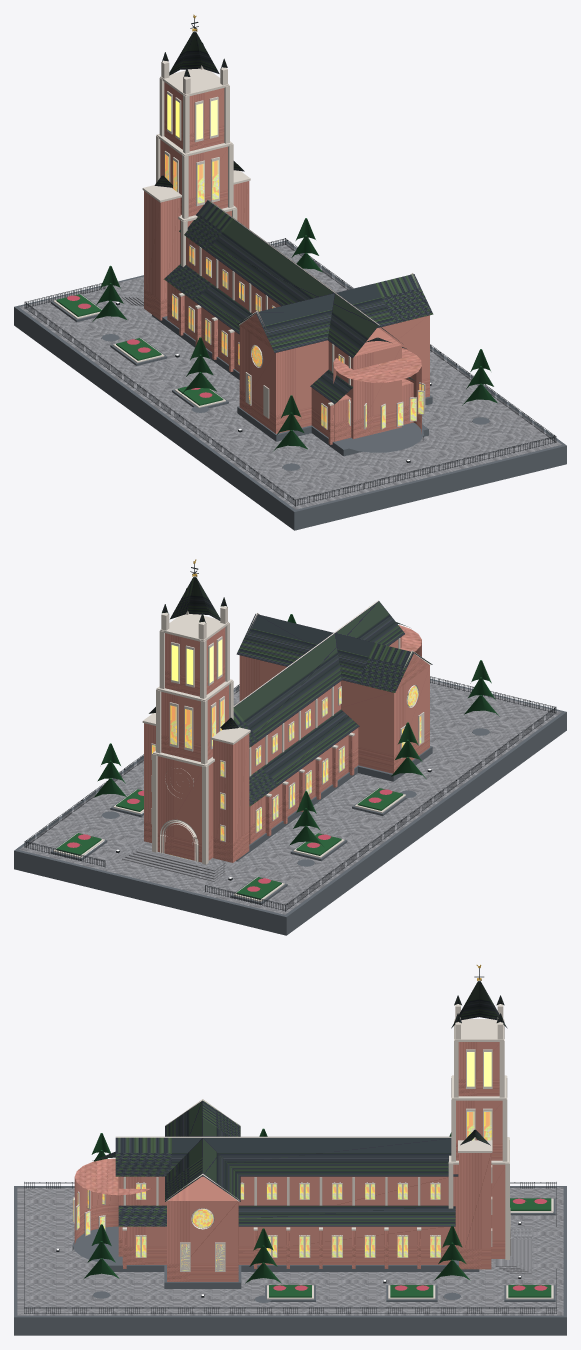
Rendered from ultra_lm_03_nha_tho_con_ga.glb.
3 views of the same model, one above another, from view 1: azimuth 30°, elevation 25°; view 2: azimuth 150°, elevation 25°; view 3: azimuth 270°, elevation 25° (orthographic).
Visible parts, largest first — view 1: Cathedral_DewWet_Forecourt_1024PBR, Romanesque_Pink_Walls_And_47m_Belfry_1024PBR, Latin_Cross_Pitched_Roofs_1024PBR, Foundation_Skirt_And_Stone_Plinth, Romanesque_Arches_Buttresses_And_RoseTracery, Cathedral_Hill_Pines_And_Hedges, Wrought_Iron_Balustrades_And_CardinalCross, LouisBalmet_70_StainedGlass_And_RoseWindow_1024PBR, Sanctuary_Interior_Warm_Glow; view 2: Cathedral_DewWet_Forecourt_1024PBR, Romanesque_Pink_Walls_And_47m_Belfry_1024PBR, Latin_Cross_Pitched_Roofs_1024PBR, Foundation_Skirt_And_Stone_Plinth, Romanesque_Arches_Buttresses_And_RoseTracery, Cathedral_Hill_Pines_And_Hedges, Wrought_Iron_Balustrades_And_CardinalCross, LouisBalmet_70_StainedGlass_And_RoseWindow_1024PBR, Sanctuary_Interior_Warm_Glow, Sculpted_Floral_Planter_Beds; view 3: Romanesque_Pink_Walls_And_47m_Belfry_1024PBR, Cathedral_DewWet_Forecourt_1024PBR, Latin_Cross_Pitched_Roofs_1024PBR, Foundation_Skirt_And_Stone_Plinth, Romanesque_Arches_Buttresses_And_RoseTracery, Cathedral_Hill_Pines_And_Hedges, LouisBalmet_70_StainedGlass_And_RoseWindow_1024PBR, Wrought_Iron_Balustrades_And_CardinalCross, Sanctuary_Interior_Warm_Glow, Sculpted_Floral_Planter_Beds.
Boxes of the visible parts, x1,y1,x2,y2 form: Cathedral_DewWet_Forecourt_1024PBR: (19, 242, 561, 509); Romanesque_Pink_Walls_And_47m_Belfry_1024PBR: (144, 82, 429, 444); Latin_Cross_Pitched_Roofs_1024PBR: (154, 31, 433, 404); Foundation_Skirt_And_Stone_Plinth: (14, 240, 566, 530); Romanesque_Arches_Buttresses_And_RoseTracery: (53, 61, 425, 429); Cathedral_Hill_Pines_And_Hedges: (56, 218, 497, 451); Wrought_Iron_Balustrades_And_CardinalCross: (24, 18, 556, 506); LouisBalmet_70_StainedGlass_And_RoseWindow_1024PBR: (165, 154, 423, 428); Sanctuary_Interior_Warm_Glow: (167, 94, 217, 139); Cathedral_DewWet_Forecourt_1024PBR: (19, 680, 561, 914); Romanesque_Pink_Walls_And_47m_Belfry_1024PBR: (144, 625, 429, 862); Latin_Cross_Pitched_Roofs_1024PBR: (149, 576, 432, 806); Foundation_Skirt_And_Stone_Plinth: (14, 678, 566, 935); Romanesque_Arches_Buttresses_And_RoseTracery: (53, 600, 430, 901); Cathedral_Hill_Pines_And_Hedges: (56, 614, 499, 899); Wrought_Iron_Balustrades_And_CardinalCross: (24, 564, 556, 911); LouisBalmet_70_StainedGlass_And_RoseWindow_1024PBR: (152, 686, 421, 840); Sanctuary_Interior_Warm_Glow: (171, 639, 222, 684); Sculpted_Floral_Planter_Beds: (66, 789, 392, 891); Romanesque_Pink_Walls_And_47m_Belfry_1024PBR: (74, 1042, 505, 1281); Cathedral_DewWet_Forecourt_1024PBR: (17, 1187, 563, 1315); Latin_Cross_Pitched_Roofs_1024PBR: (92, 981, 507, 1226); Foundation_Skirt_And_Stone_Plinth: (14, 1186, 566, 1335); Romanesque_Arches_Buttresses_And_RoseTracery: (73, 1004, 553, 1299); Cathedral_Hill_Pines_And_Hedges: (84, 1128, 551, 1297); LouisBalmet_70_StainedGlass_And_RoseWindow_1024PBR: (73, 1111, 491, 1270); Wrought_Iron_Balustrades_And_CardinalCross: (24, 968, 556, 1313); Sanctuary_Interior_Warm_Glow: (467, 1052, 491, 1086); Sculpted_Floral_Planter_Beds: (272, 1198, 547, 1290).
Bounding box in the file's own units: 46 × 50 × 82.
12 materials, 4 textured.
